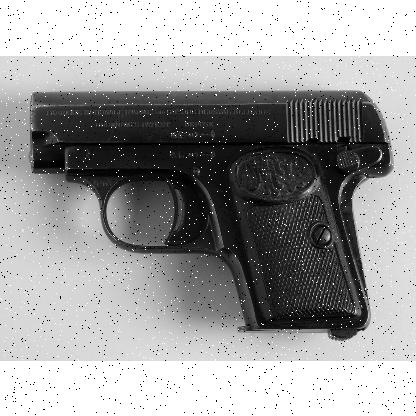gun: (28, 89, 394, 341), (28, 88, 394, 340)
